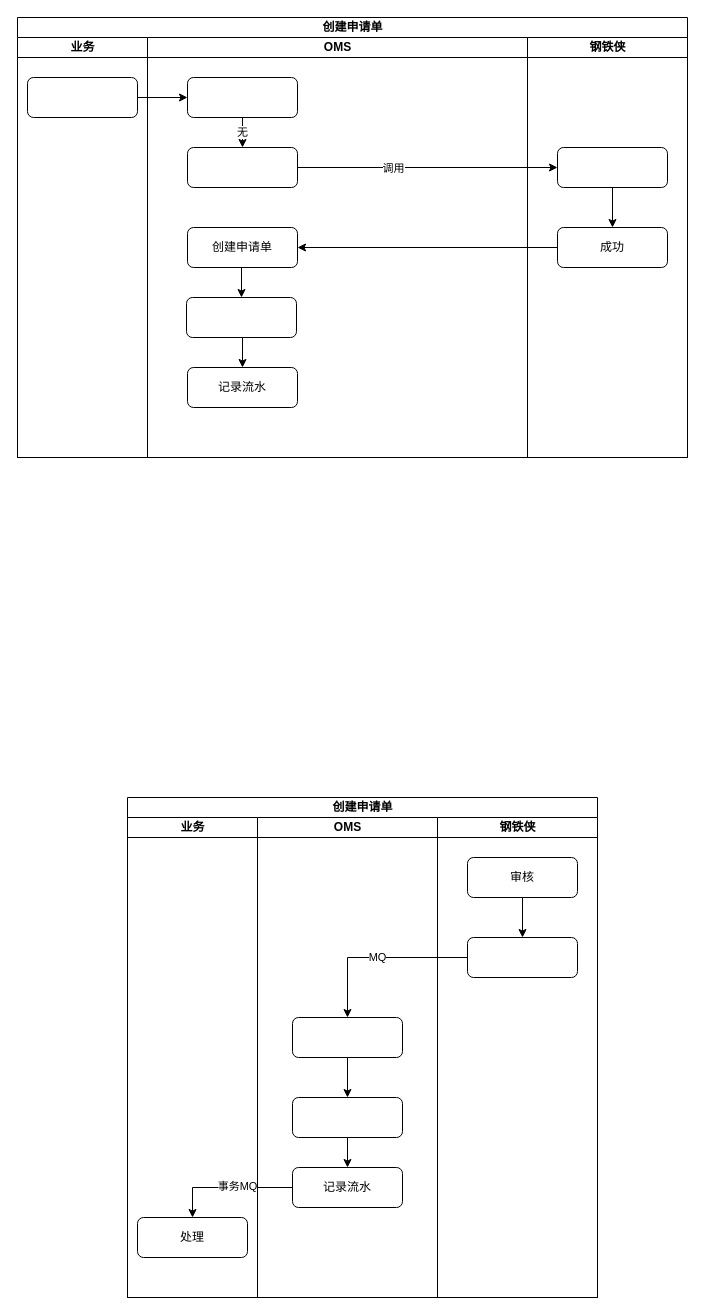
Image size: 705x1315. Some labels were removed from this diagram. Each missing label, with the centre of its shape:
FSM: (347,1037)
借出申请: (82,97)
借出申请单状态变更: (347,1117)
借用申请单创建: (612,167)
判断是否重复生成: (242,97)
记录申请单详情: (241,317)
通过Or拒绝: (522,957)
